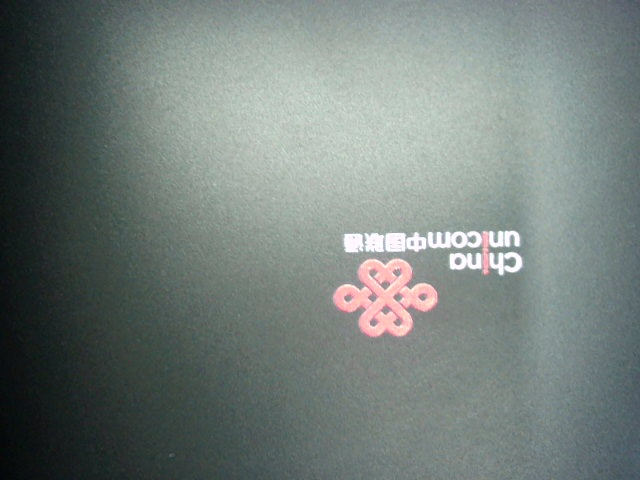AC_ChinaUnicom: (316, 225, 526, 346)
